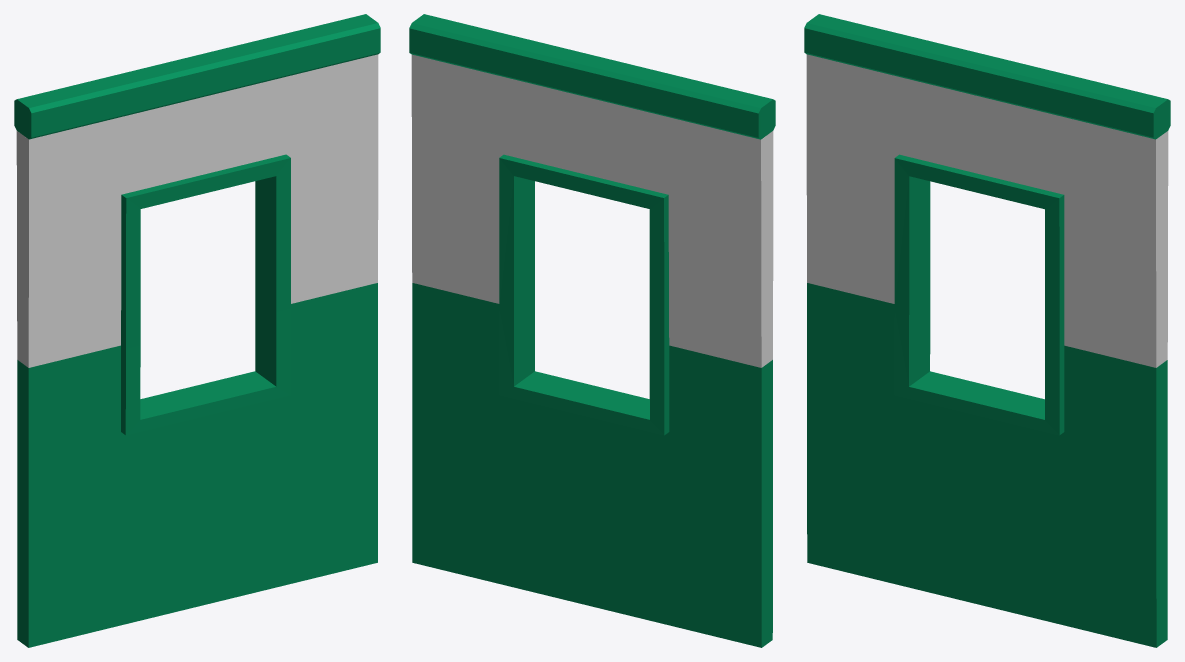
File: wall_44.fbx
3 renders of one model, left to right at view 1: azimuth 30°, elevation 25°; view 2: azimuth 150°, elevation 25°; view 3: azimuth 330°, elevation 25°, orthographic.
Visible parts, largest first — view 1: WALL_5.016; view 2: WALL_5.016; view 3: WALL_5.016.
Part boxes in pixels (bbox=[...]): WALL_5.016: bbox=[14, 14, 380, 647]; WALL_5.016: bbox=[409, 14, 775, 647]; WALL_5.016: bbox=[804, 14, 1170, 647].
Bounding box in the file's own units: 3.27 × 4.83 × 0.3453.
